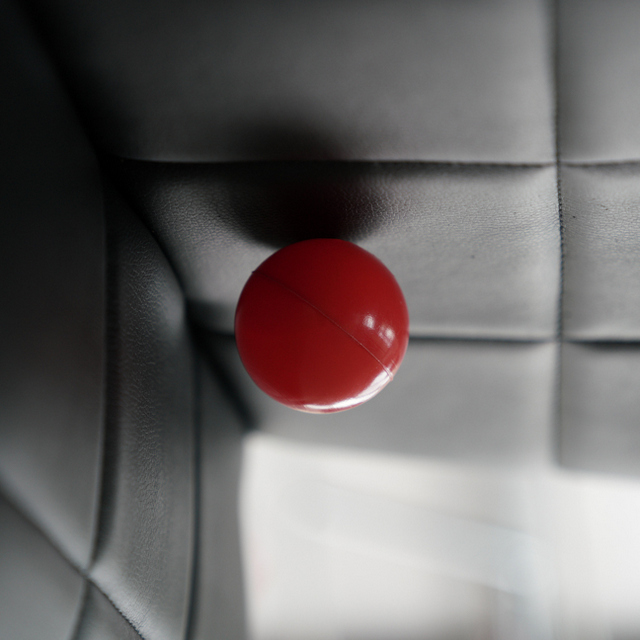Ball: (236, 240, 411, 410)
